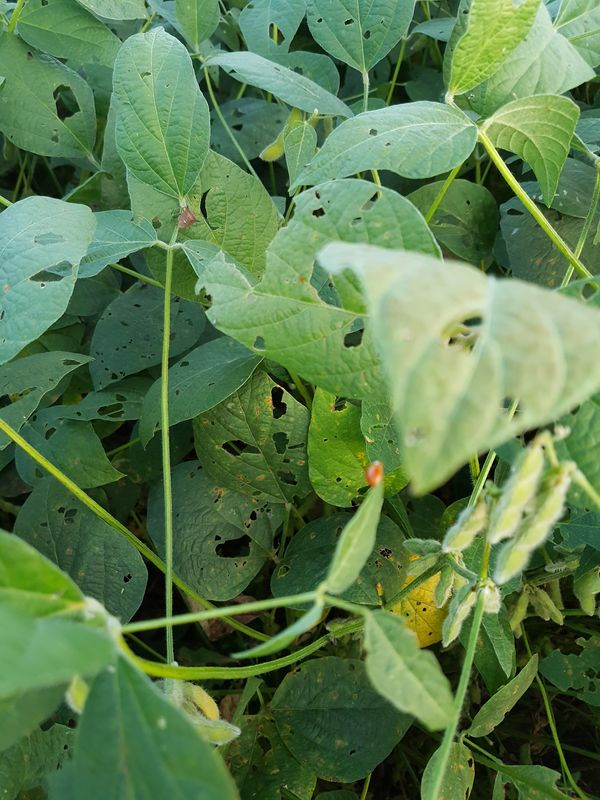Coccinellidae: (353, 453, 394, 493)
Euschistus_heros_adulto: (167, 199, 207, 238)
